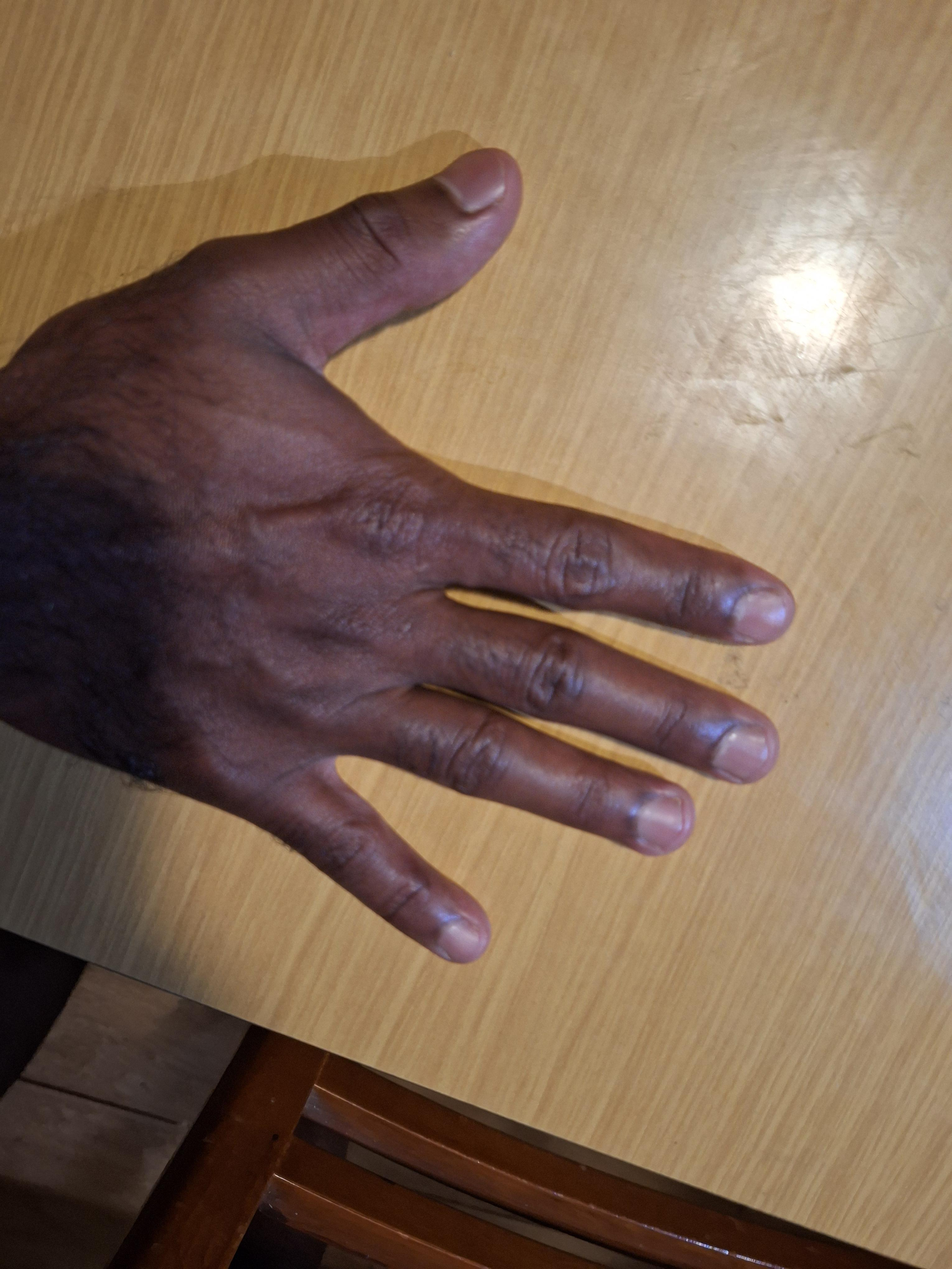Fingernail: (435, 148, 504, 214), (714, 727, 767, 781), (733, 590, 785, 642), (638, 796, 683, 850), (440, 919, 484, 961)
